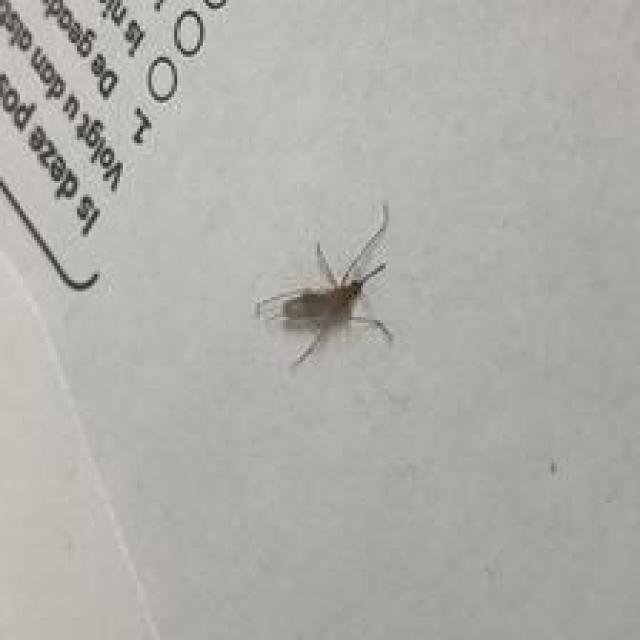Culex: (252, 201, 394, 370)
